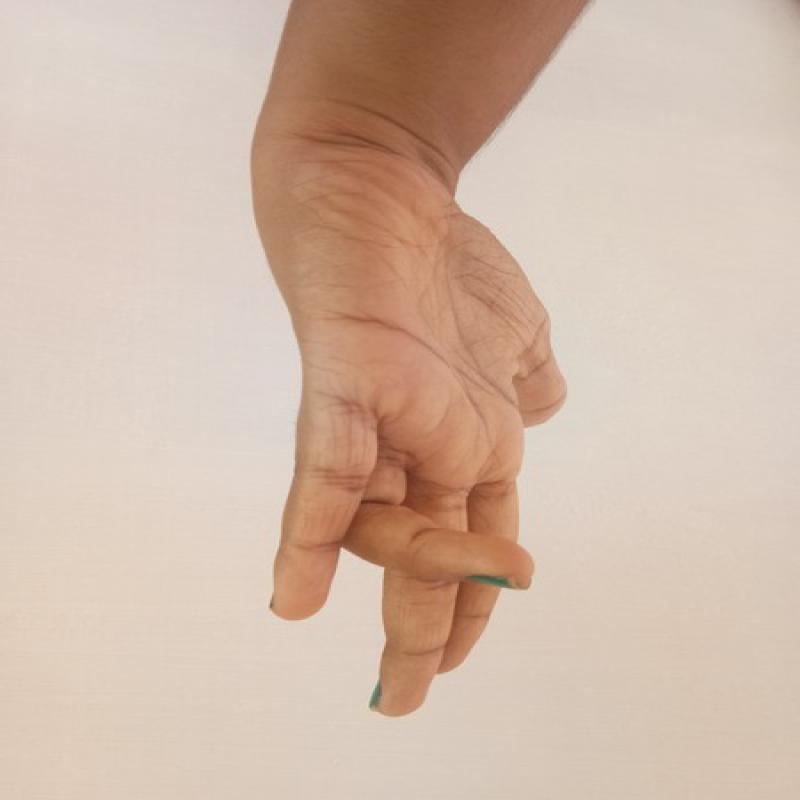Pathaaka: (243, 176, 577, 735)
